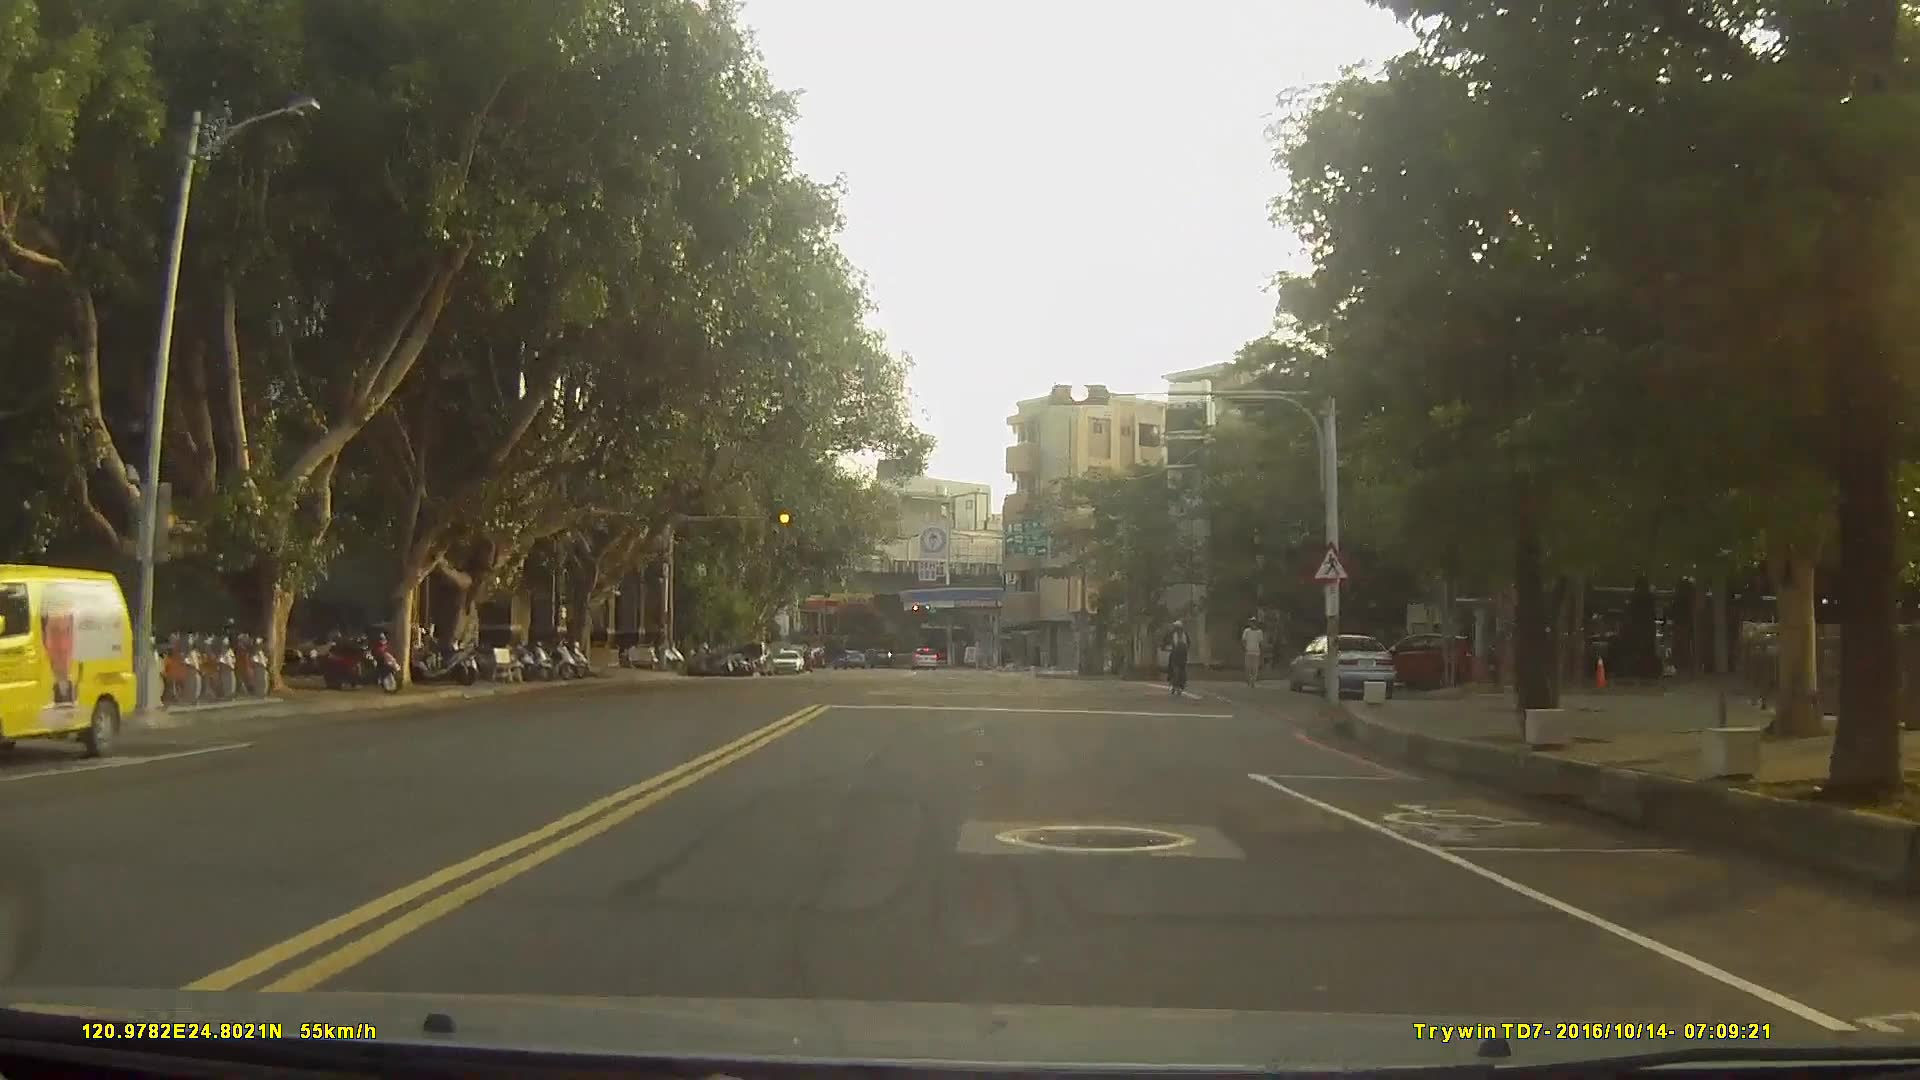pedestrian: (1238, 611, 1269, 689)
rider: (1170, 616, 1199, 693)
vehicle: (1287, 633, 1397, 698), (1364, 628, 1473, 691), (771, 646, 804, 672), (904, 643, 937, 667)
